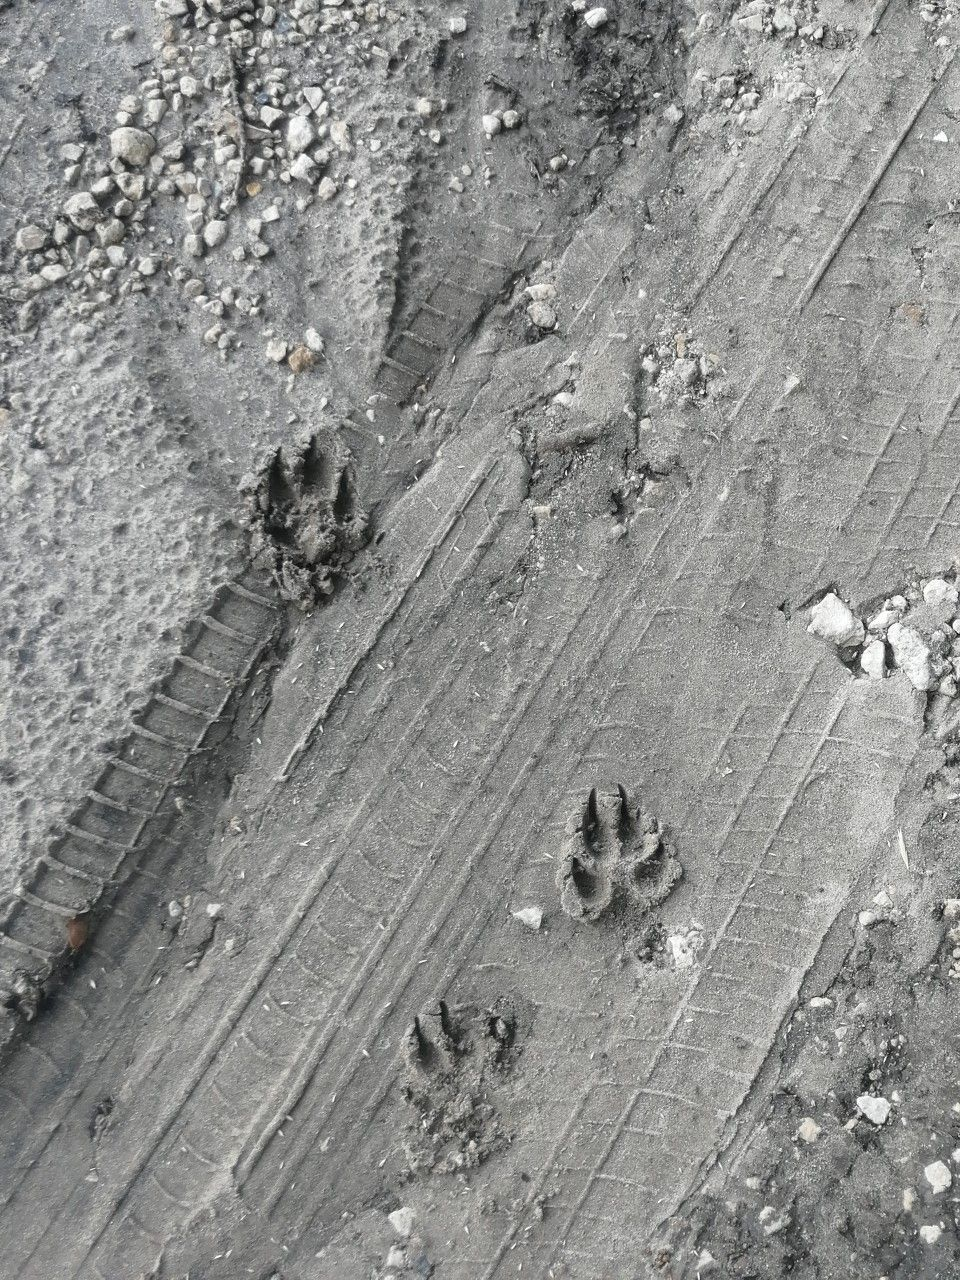chien: (552, 781, 687, 930), (232, 450, 382, 582)
